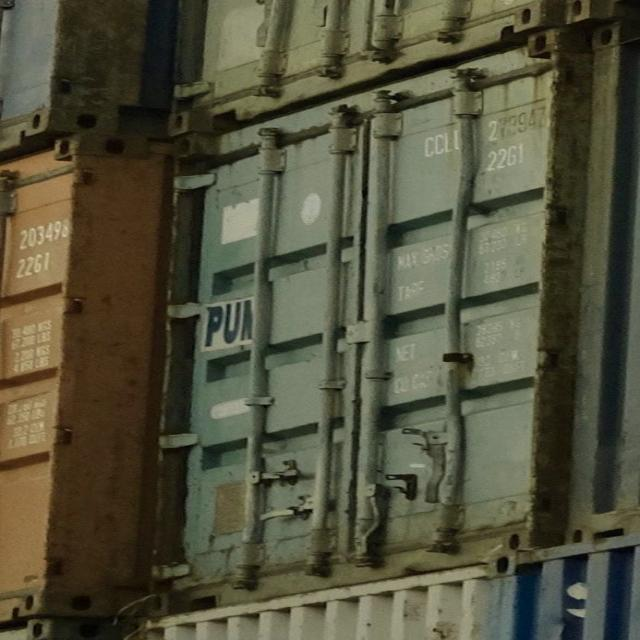ISO: (488, 140, 530, 174)
container_number: (424, 102, 552, 156)
